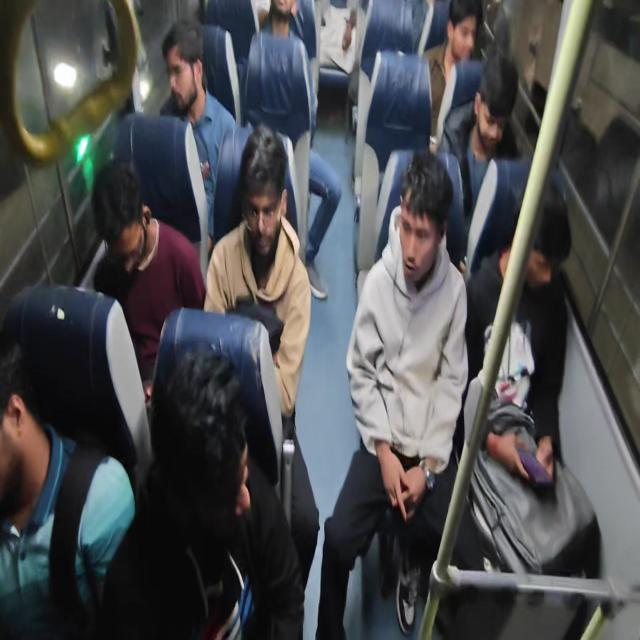person: (153, 343, 255, 535), (503, 182, 578, 316), (90, 161, 159, 282), (394, 150, 450, 283), (237, 128, 291, 265), (1, 338, 35, 498), (163, 19, 216, 114), (478, 55, 525, 146), (450, 1, 480, 60), (262, 0, 302, 38)
